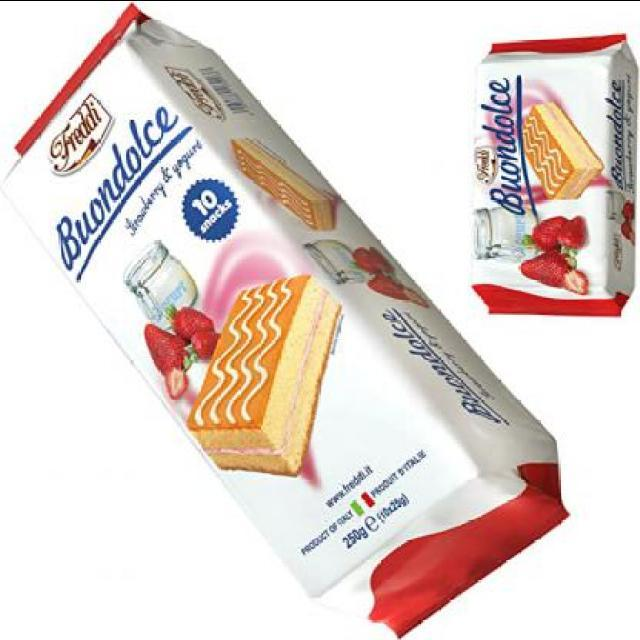Merendine: (1, 5, 570, 637), (470, 30, 638, 318)
